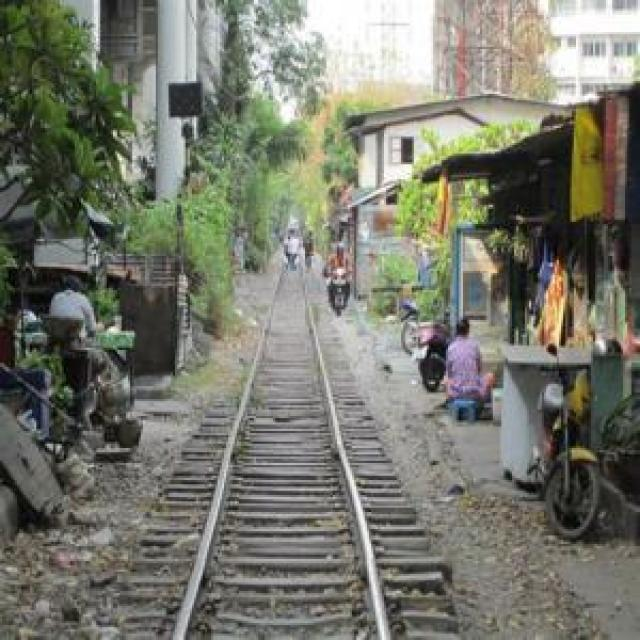danger: (47, 280, 117, 418), (446, 319, 495, 419), (322, 243, 354, 316), (303, 230, 314, 271), (288, 232, 299, 269), (285, 234, 291, 266)
rail: (103, 253, 437, 640)
